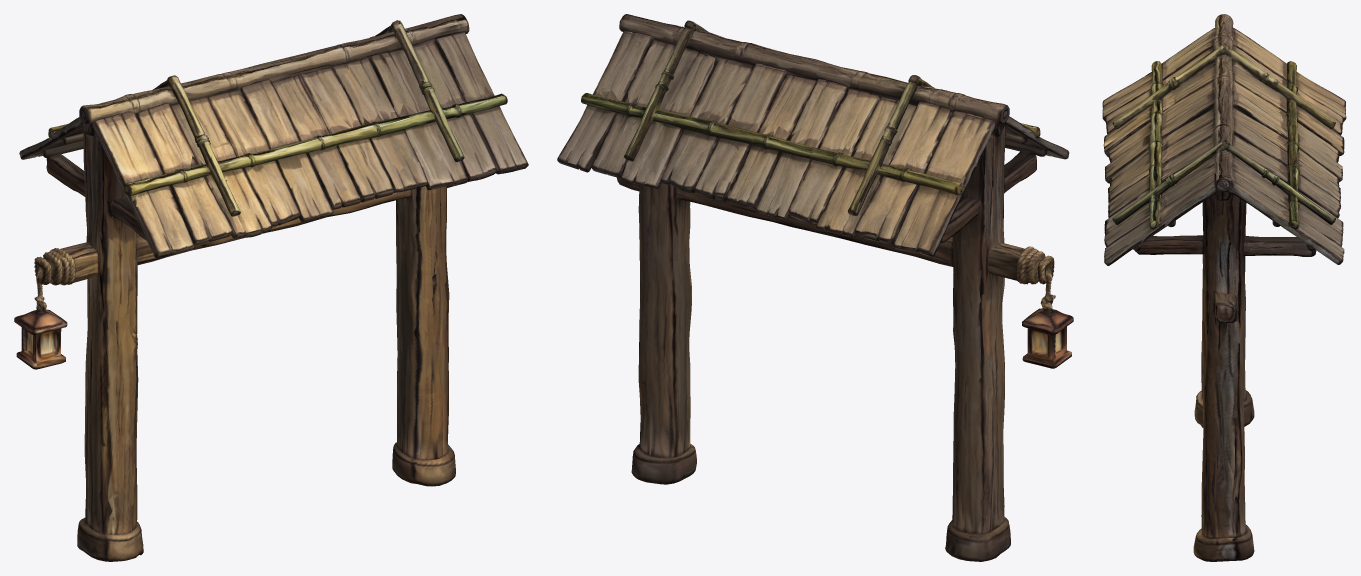
Rendered from SM_Cong_lang_BlenderOptimized.fbx.
3 renders of one model, left to right at view 1: azimuth 30°, elevation 25°; view 2: azimuth 150°, elevation 25°; view 3: azimuth 270°, elevation 25°, orthographic. The views are drawn at different scales.
Visible parts, largest first — view 1: tripo_node_d9b5ebef-118f-42e0-80ac-0bc31311062a; view 2: tripo_node_d9b5ebef-118f-42e0-80ac-0bc31311062a; view 3: tripo_node_d9b5ebef-118f-42e0-80ac-0bc31311062a.
Boxes of the visible parts, <box> form: tripo_node_d9b5ebef-118f-42e0-80ac-0bc31311062a: <box>14,14,528,561</box>; tripo_node_d9b5ebef-118f-42e0-80ac-0bc31311062a: <box>557,14,1073,561</box>; tripo_node_d9b5ebef-118f-42e0-80ac-0bc31311062a: <box>1102,14,1346,561</box>.
Size of the model in its own units: 0.9779 by 0.97 by 0.5312.
